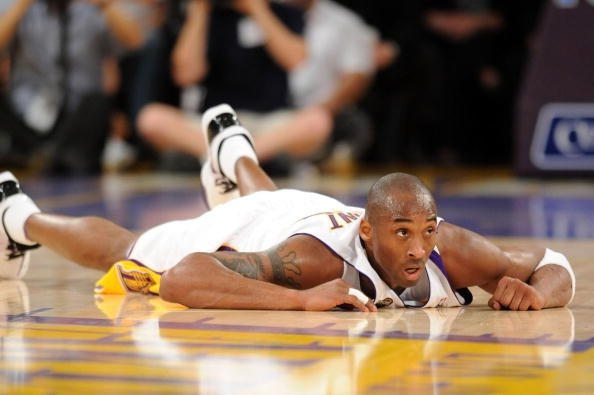falling: (9, 111, 572, 316)
